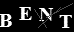B: (1, 12, 13, 28)
E: (18, 6, 33, 21)
N: (38, 7, 54, 22)
T: (58, 14, 73, 29)
